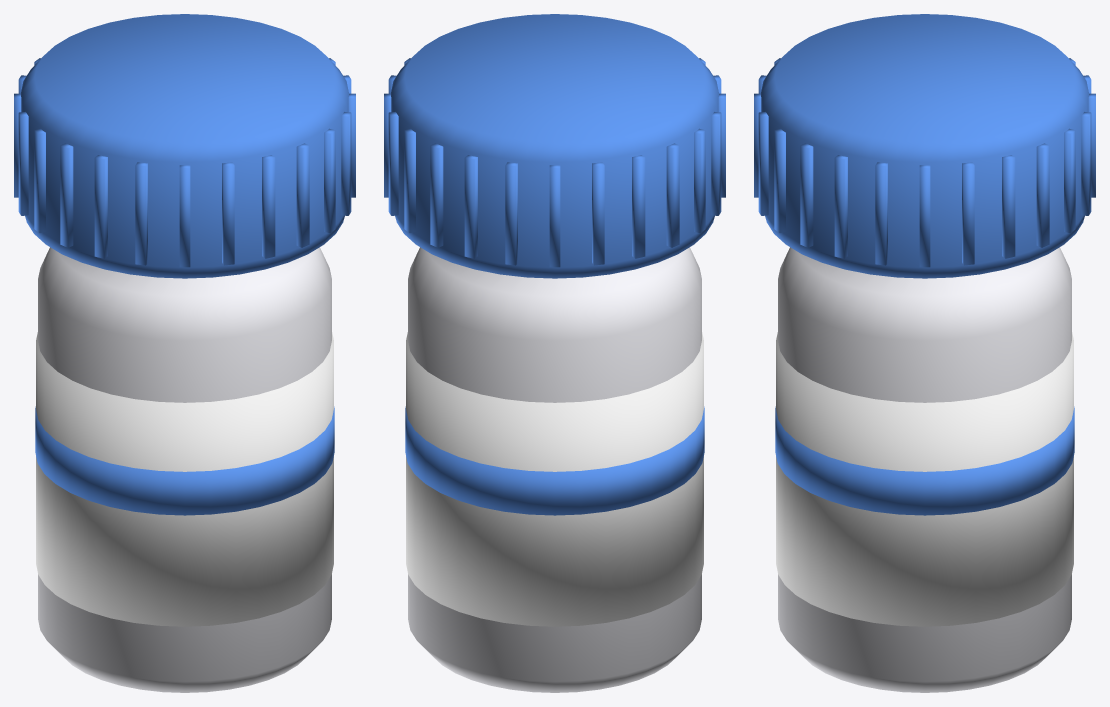
Rendered from SM_TurboPill.glb.
3 views of the same model, side by side, from view 1: azimuth 30°, elevation 25°; view 2: azimuth 150°, elevation 25°; view 3: azimuth 270°, elevation 25° (orthographic).
Visible parts, largest first — view 1: SM_TurboPill; view 2: SM_TurboPill; view 3: SM_TurboPill.
Boxes of the visible parts, left/top/right/bottom form: SM_TurboPill: left=14, top=14, right=355, bottom=692; SM_TurboPill: left=384, top=14, right=725, bottom=692; SM_TurboPill: left=754, top=14, right=1095, bottom=692.
Size of the model in its own units: 0.05 by 0.0905 by 0.05.
